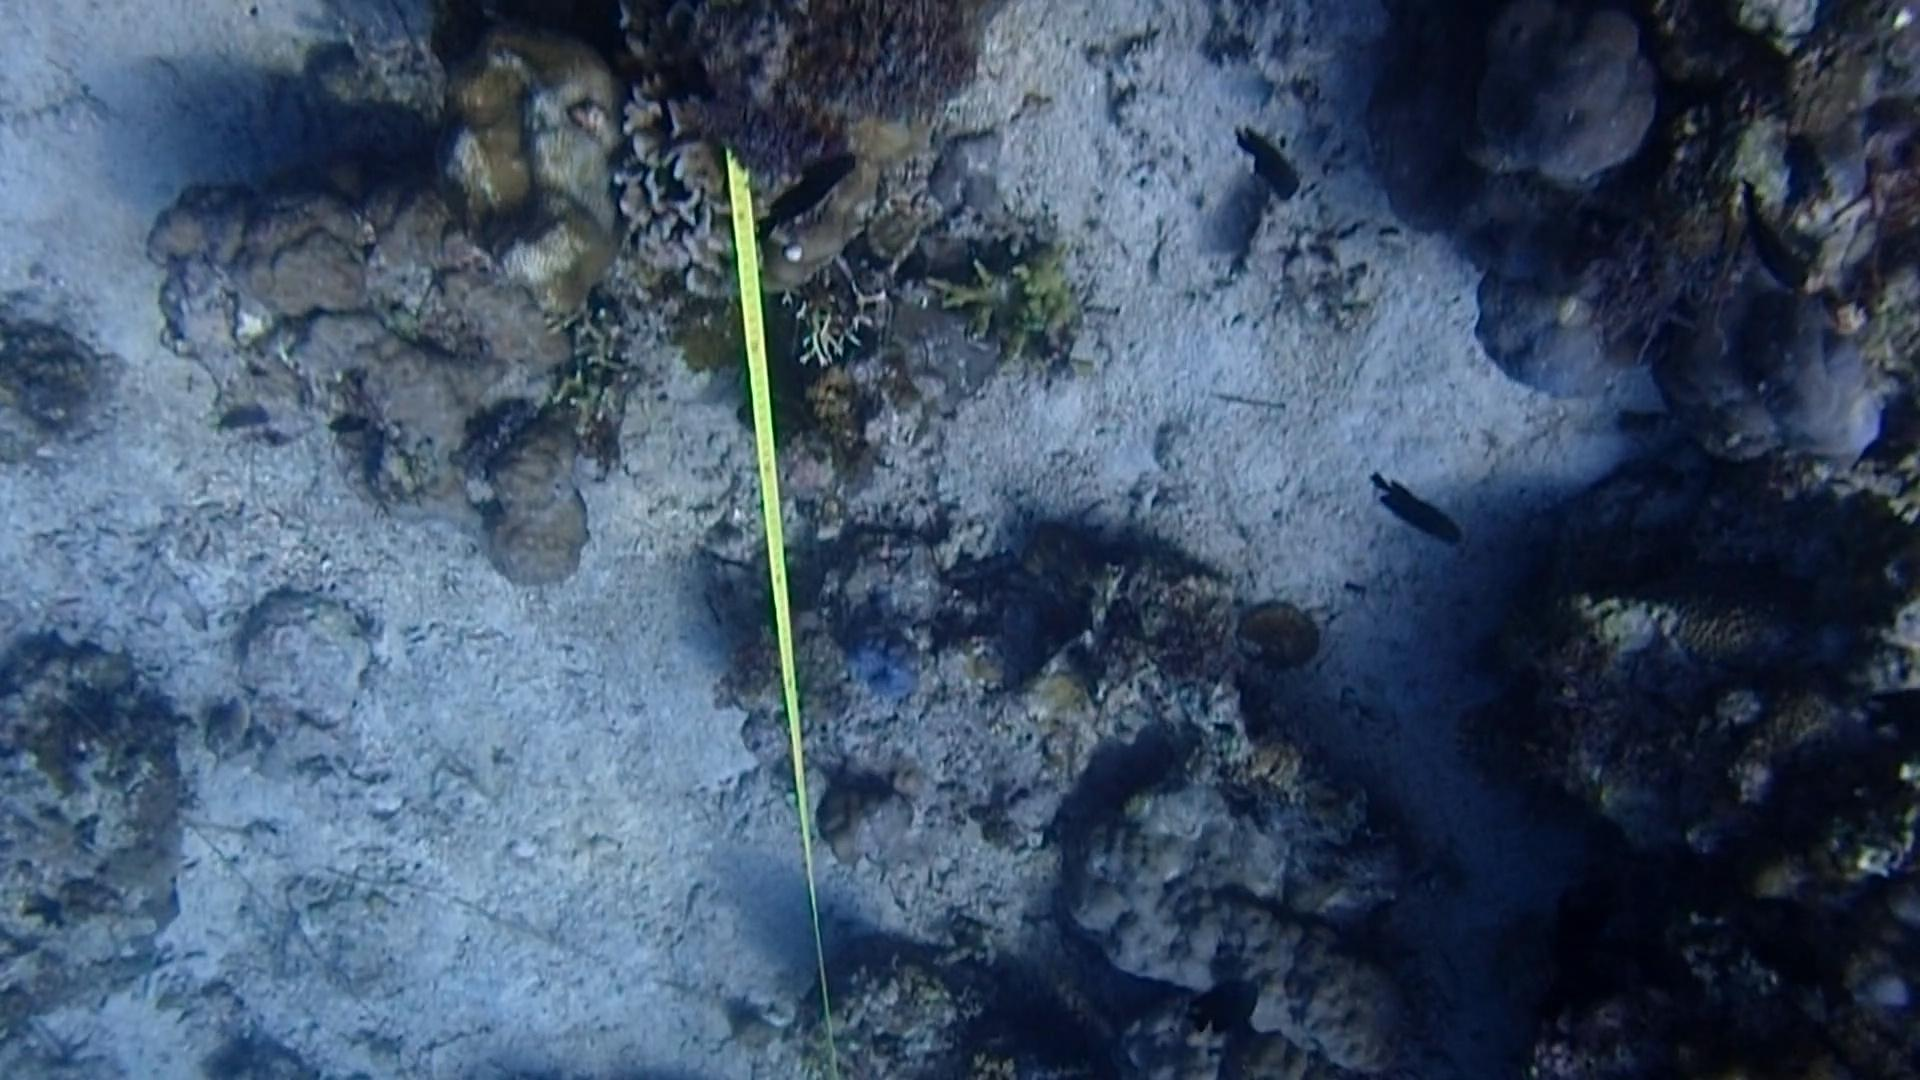Dark Fish: (1362, 448, 1474, 555), (1516, 877, 1619, 992), (749, 148, 872, 240), (1726, 173, 1822, 287), (1222, 119, 1315, 210), (1171, 960, 1267, 1039)
Light Fish: (202, 679, 260, 765)
